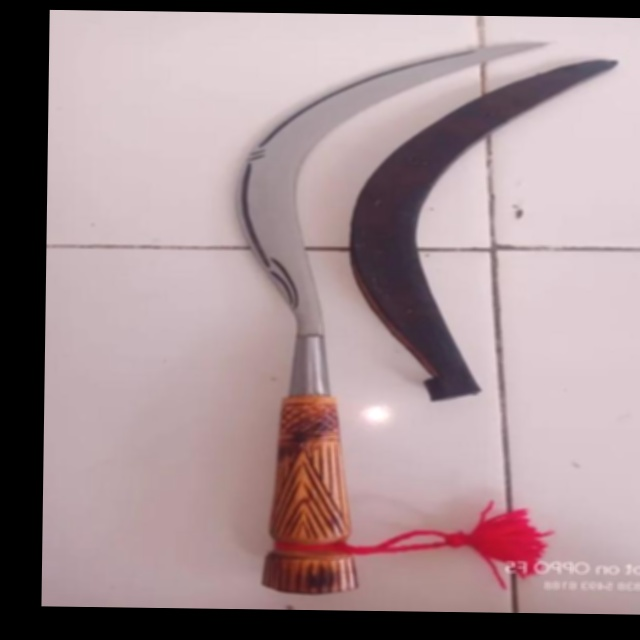Sharp-Object: (227, 33, 552, 604)
